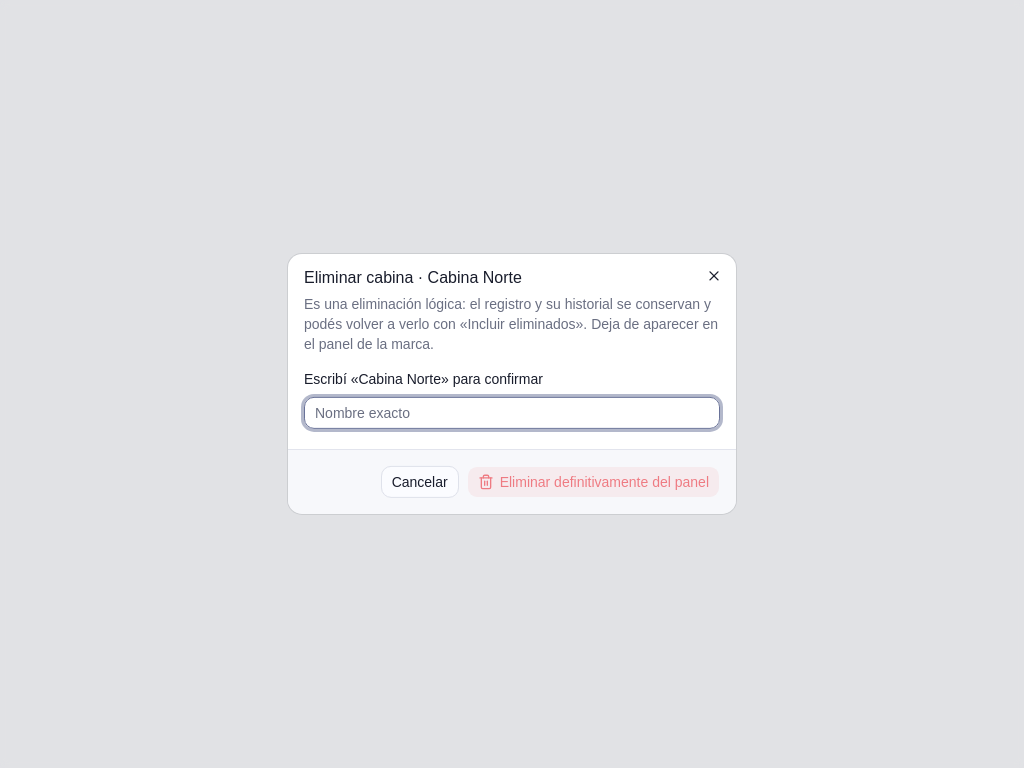
Test case: DeleteResourceDialog › explains a busy kiosk instead of the raw conflict, and stays open to retry
Type "Cabina Norte" into the field labelled "Escribí «Cabina Norte» para confirmar" at point(512, 413), box [304,397,720,429]
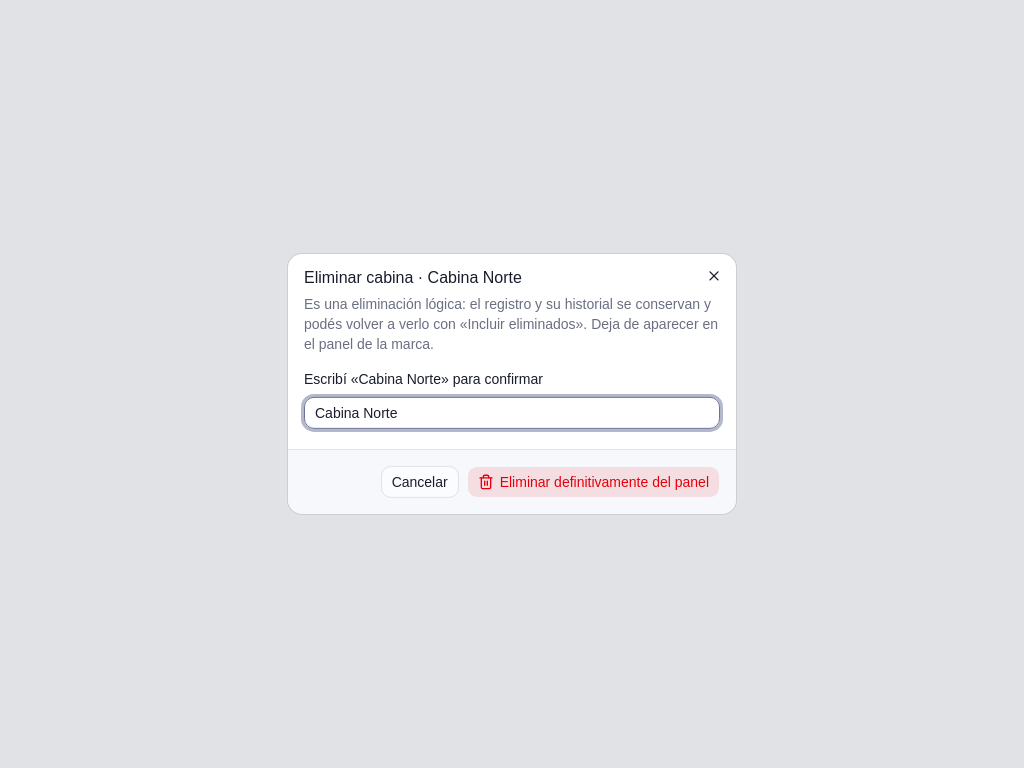
Click the button "Eliminar definitivamente del panel" at point(593, 482), box [467,466,720,498]
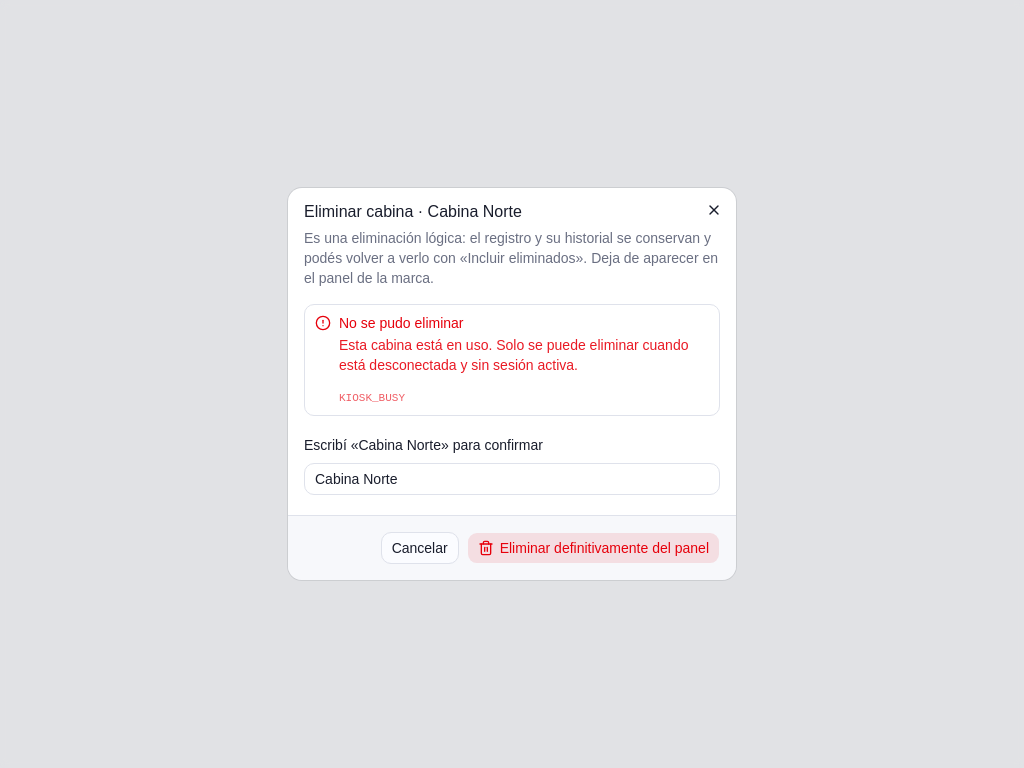
Check: the button "Eliminar definitivamente del panel" is enabled, box [467,532,720,564]
Check: the message shows "Esta cabina está en uso", box [339,337,688,373]
